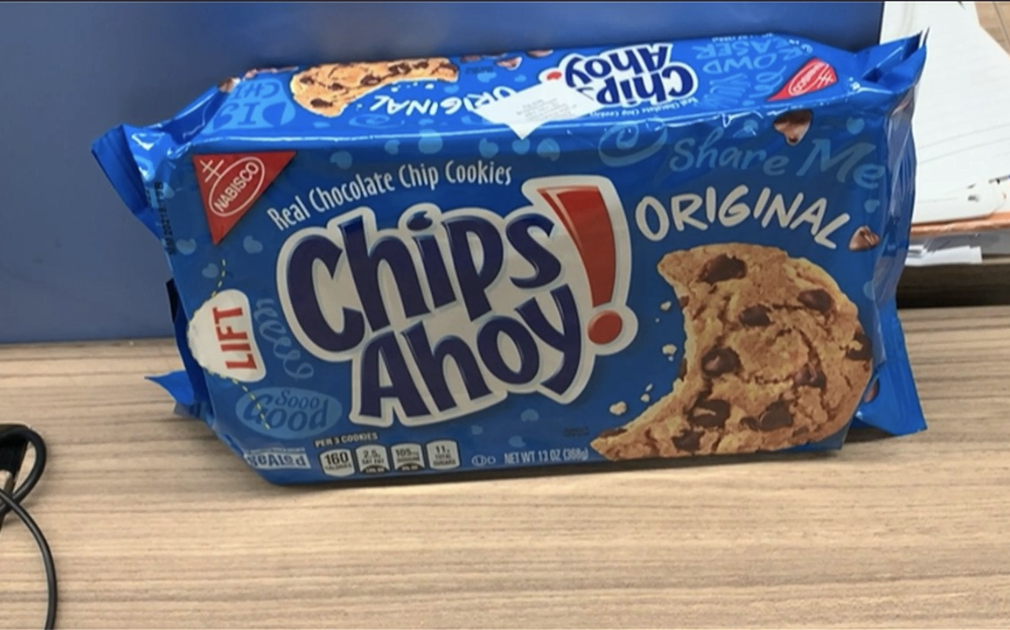cookies_150g: (203, 136, 869, 439)
